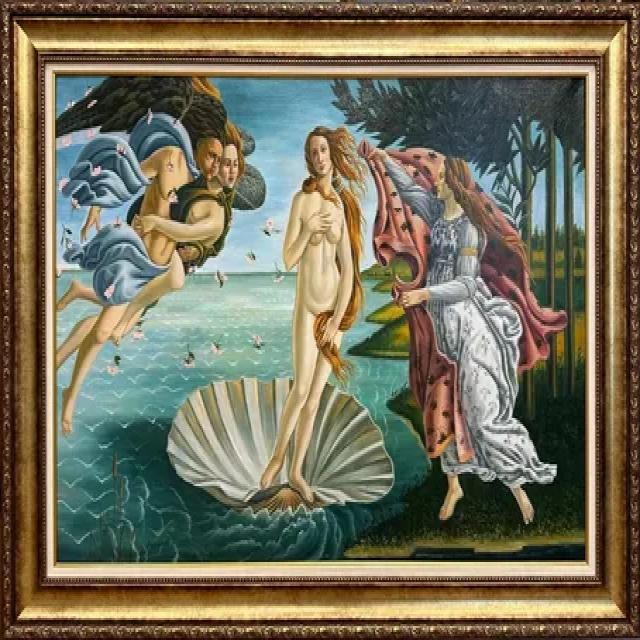Venus and Mars: (55, 76, 586, 562)
